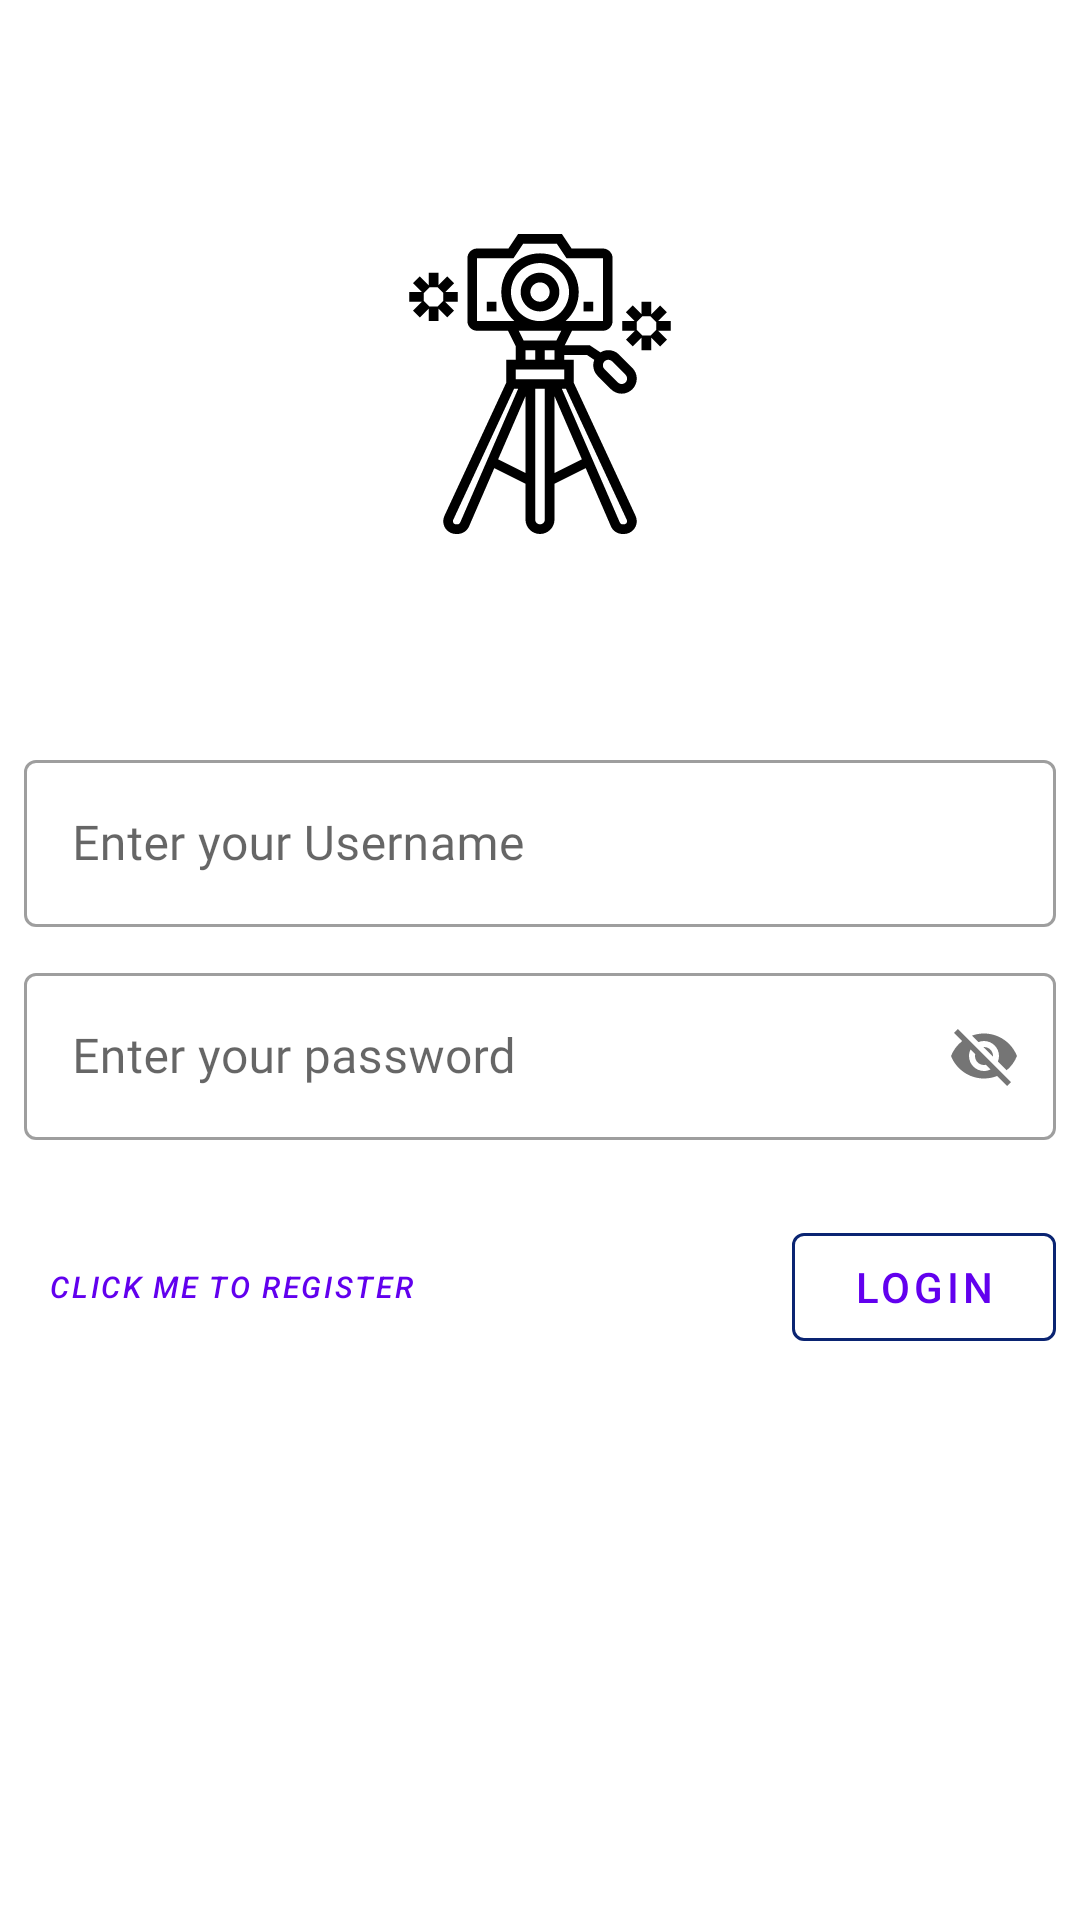

Named icons in this screenshot (1080 x 1920) and their centers, (x=x, y=y):
camera: (x=540, y=384)
